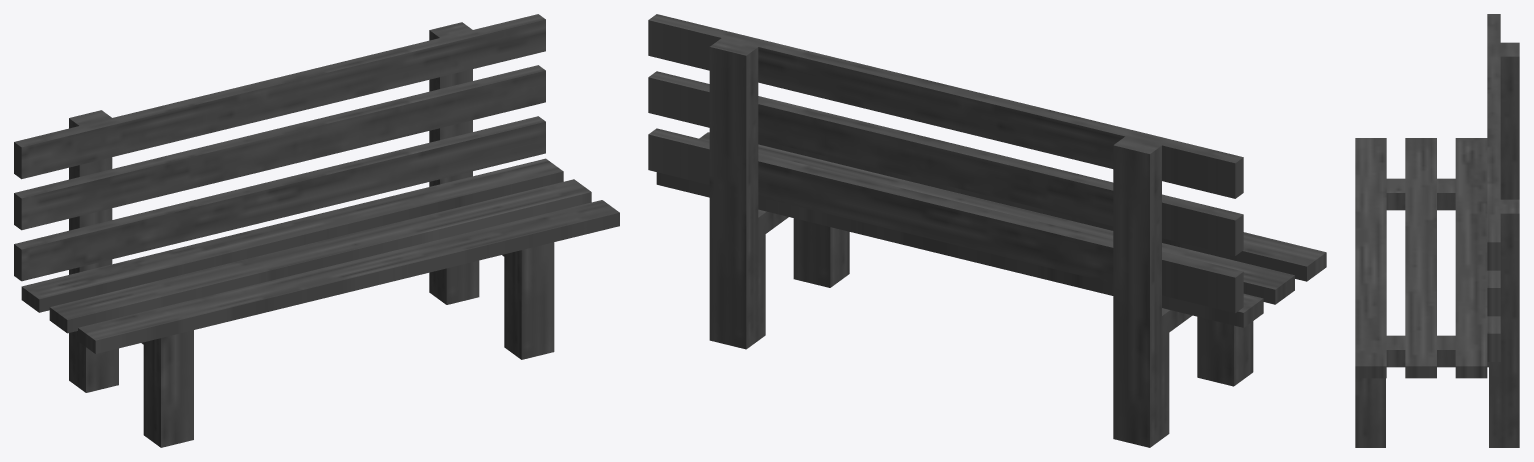
The model's file is Bench.fbx.
The picture shows the model from 3 angles, left to right: view 1: azimuth 30°, elevation 25°; view 2: azimuth 150°, elevation 25°; view 3: azimuth 270°, elevation 25°; orthographic projection. The views are drawn at different scales.
Parts seen in each view (by area): view 1: Bench; view 2: Bench; view 3: Bench.
Part boxes in pixels (left/top/right/bottom): Bench: left=14, top=14, right=619, bottom=447; Bench: left=648, top=14, right=1326, bottom=447; Bench: left=1355, top=14, right=1519, bottom=447.
Bounding box in the file's own units: 161 × 77.07 × 49.1.
